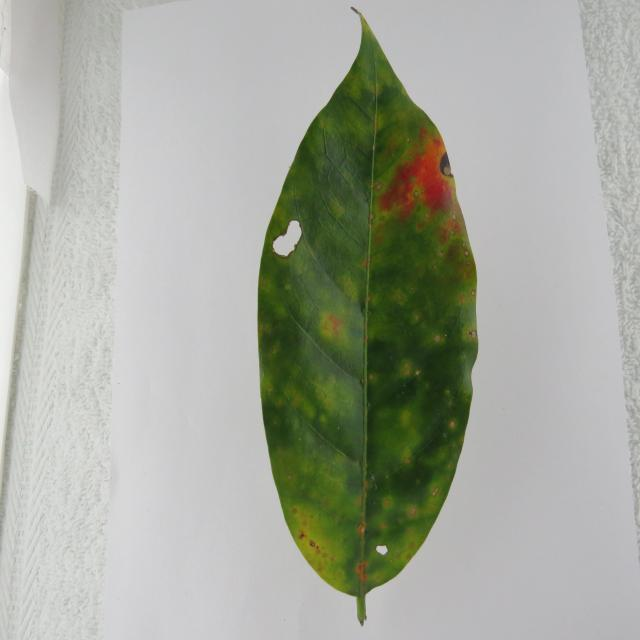DeficienciaNutricional-Fosforo: (258, 15, 478, 623)
